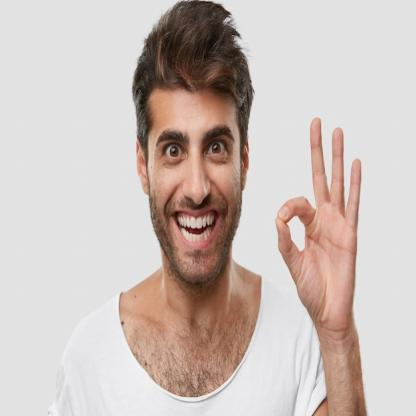ok: (273, 112, 367, 336)
